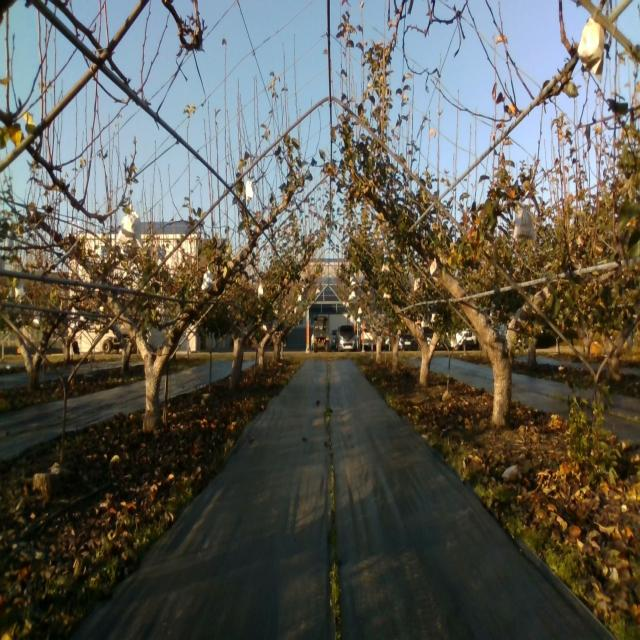pearbags: (577, 18, 606, 82), (118, 204, 144, 249), (512, 206, 536, 242), (201, 266, 214, 293)
